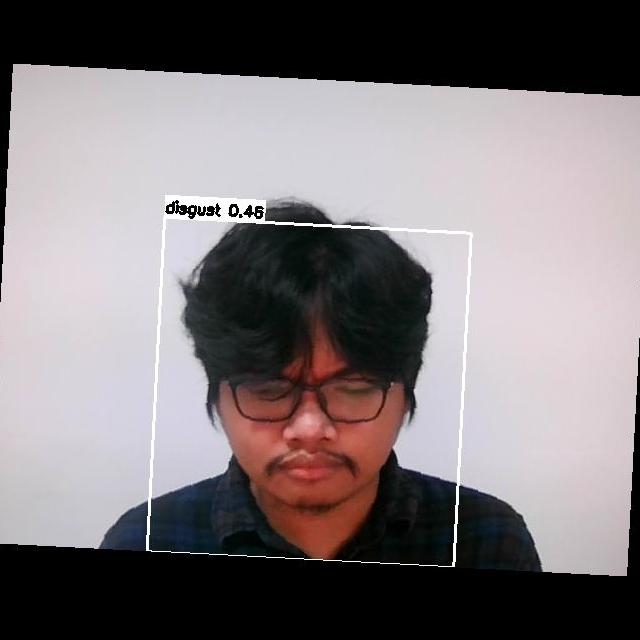Angry: (212, 347, 406, 485)
